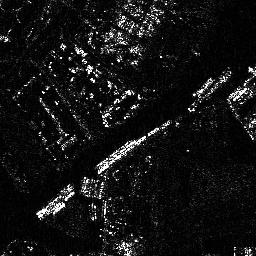ship: (35, 183, 74, 220), (95, 139, 135, 167), (194, 77, 216, 97)
